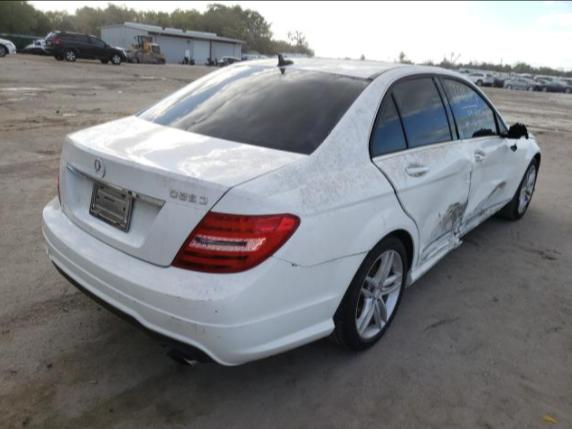Broken part: (369, 138, 474, 271), (406, 200, 508, 287)
Dent: (467, 146, 515, 213), (455, 197, 513, 240), (421, 233, 457, 264)
Missing part: (89, 183, 130, 228), (508, 124, 528, 139)
Paint chip: (510, 144, 517, 151)
Scratch: (439, 199, 468, 233), (488, 181, 507, 199)
